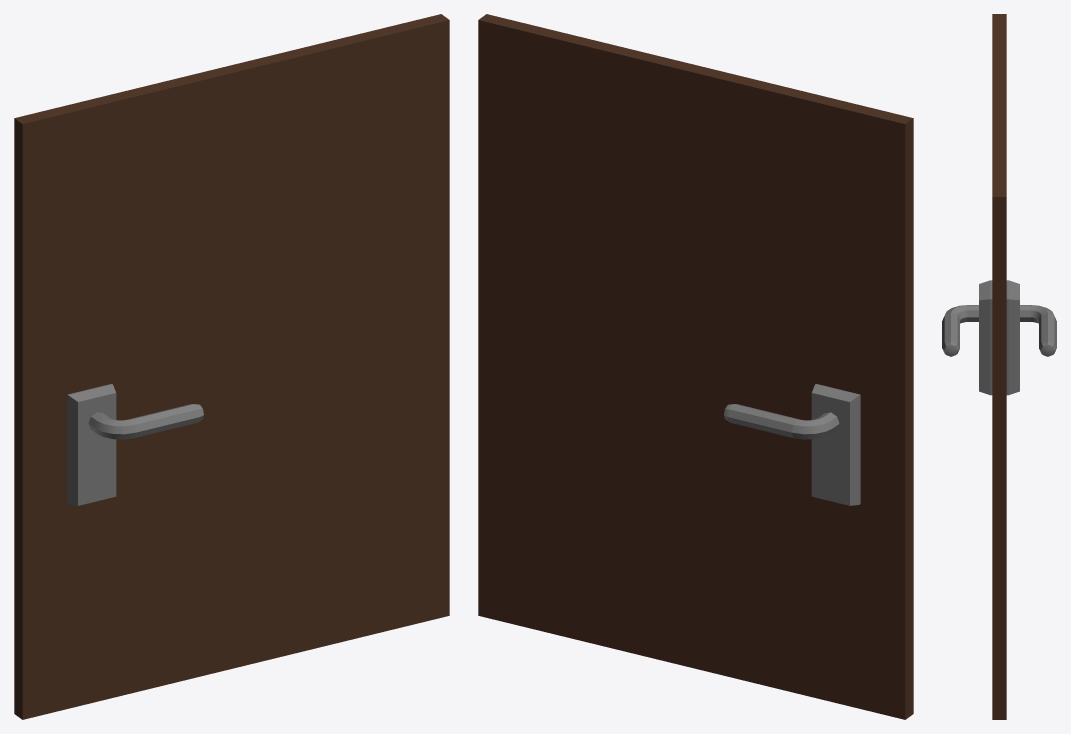
File: Porte.fbx
The picture shows the model from 3 angles, left to right: view 1: azimuth 30°, elevation 25°; view 2: azimuth 150°, elevation 25°; view 3: azimuth 270°, elevation 25°; orthographic projection. The views are drawn at different scales.
Parts seen in each view (by area): view 1: Porte; view 2: Porte; view 3: Porte.
Boxes of the visible parts, <box> form: Porte: <box>14,14,449,719</box>; Porte: <box>478,14,913,719</box>; Porte: <box>942,14,1056,719</box>.
Size of the model in its own units: 150 by 200 by 39.76.
